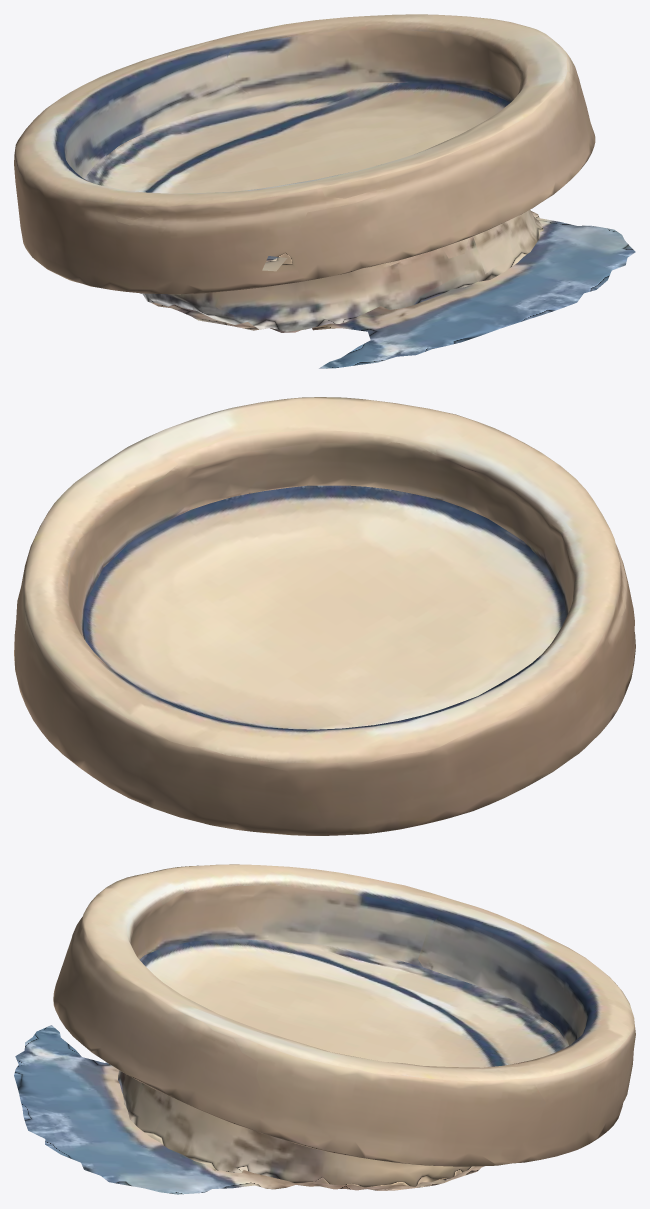
The model's file is plate.glb.
The picture shows the model from 3 angles, top to bottom: view 1: azimuth 30°, elevation 25°; view 2: azimuth 150°, elevation 25°; view 3: azimuth 270°, elevation 25°; orthographic projection. The views are drawn at different scales.
Visible parts, largest first — view 1: geometry_0; view 2: geometry_0; view 3: geometry_0.
Boxes of the visible parts, <box> form: geometry_0: <box>14,14,635,368</box>; geometry_0: <box>14,397,635,835</box>; geometry_0: <box>14,864,635,1194</box>.
Bounding box in the file's own units: 0.8937 × 0.3592 × 0.9537.
Materials: 1 (1 with a texture image).
